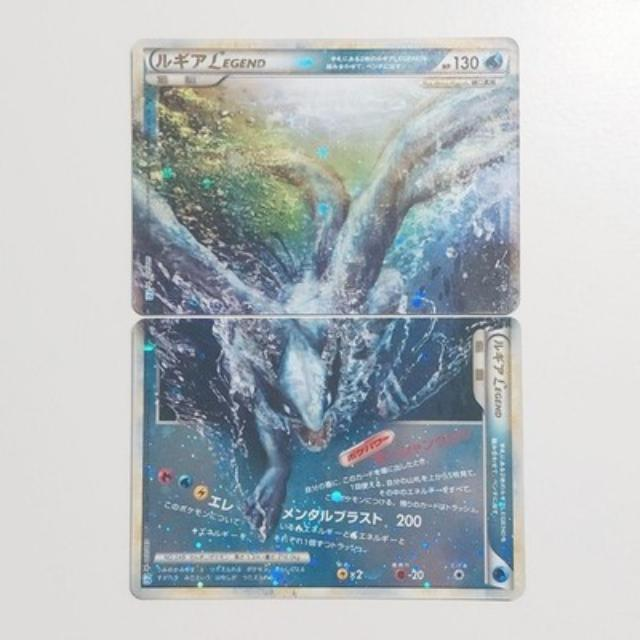Card: (126, 313, 530, 605), (125, 32, 525, 319)
Name: (149, 47, 271, 75), (486, 333, 509, 425)
